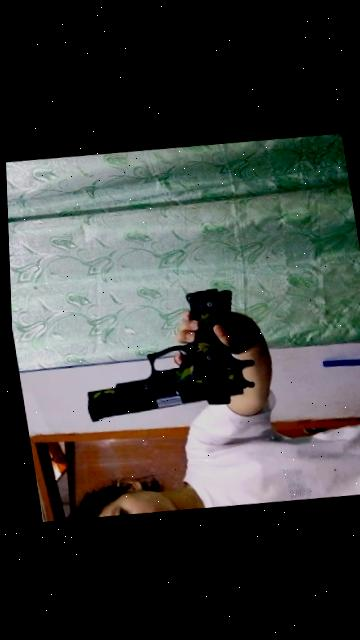pistol: (59, 253, 264, 439)
